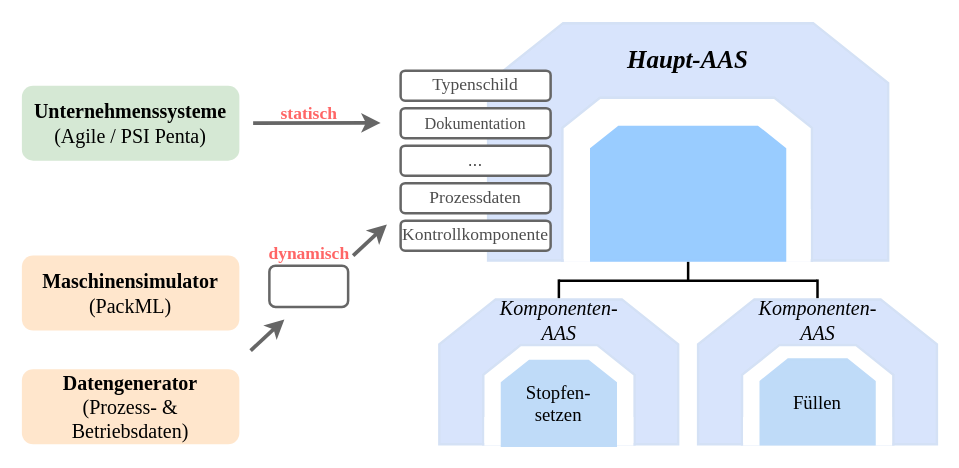
Some shapes in this 959 by 468 pixel diagram are drawn without their labels. The shapes that lost their labels are listed below. From the top down, each one's box as (x1, y1, x2, y2) in pixels, then its label:
(589, 125, 786, 261): robocell Abfüll- und Verschließmodul
(268, 264, 349, 308): OPC UA Server
